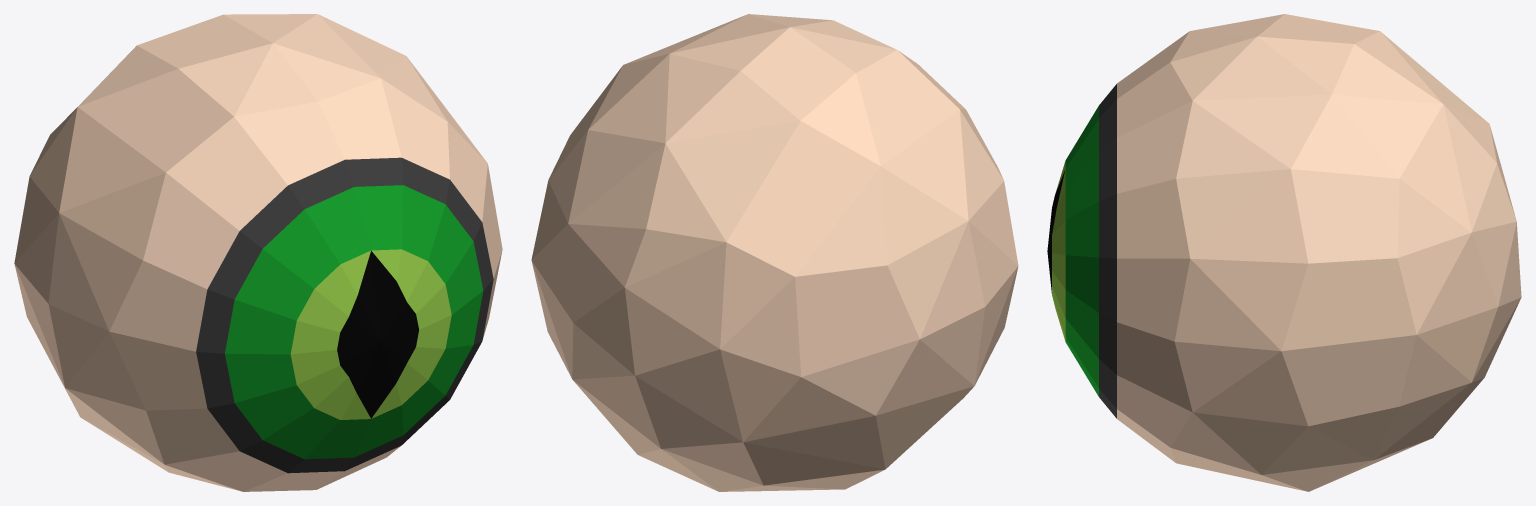
Rendered from Ingredient_eye_2.fbx.
3 views of the same model, side by side, from view 1: azimuth 30°, elevation 25°; view 2: azimuth 150°, elevation 25°; view 3: azimuth 270°, elevation 25° (orthographic). The views are drawn at different scales.
Visible parts, largest first — view 1: Jar_Eyes_Green.002; view 2: Jar_Eyes_Green.002; view 3: Jar_Eyes_Green.002.
Part boxes in pixels (x1,y1,x2,y2): Jar_Eyes_Green.002: (14, 14, 502, 491); Jar_Eyes_Green.002: (531, 14, 1018, 491); Jar_Eyes_Green.002: (1047, 14, 1521, 491).
Size of the model in its own units: 16.14 by 16.13 by 16.02.
